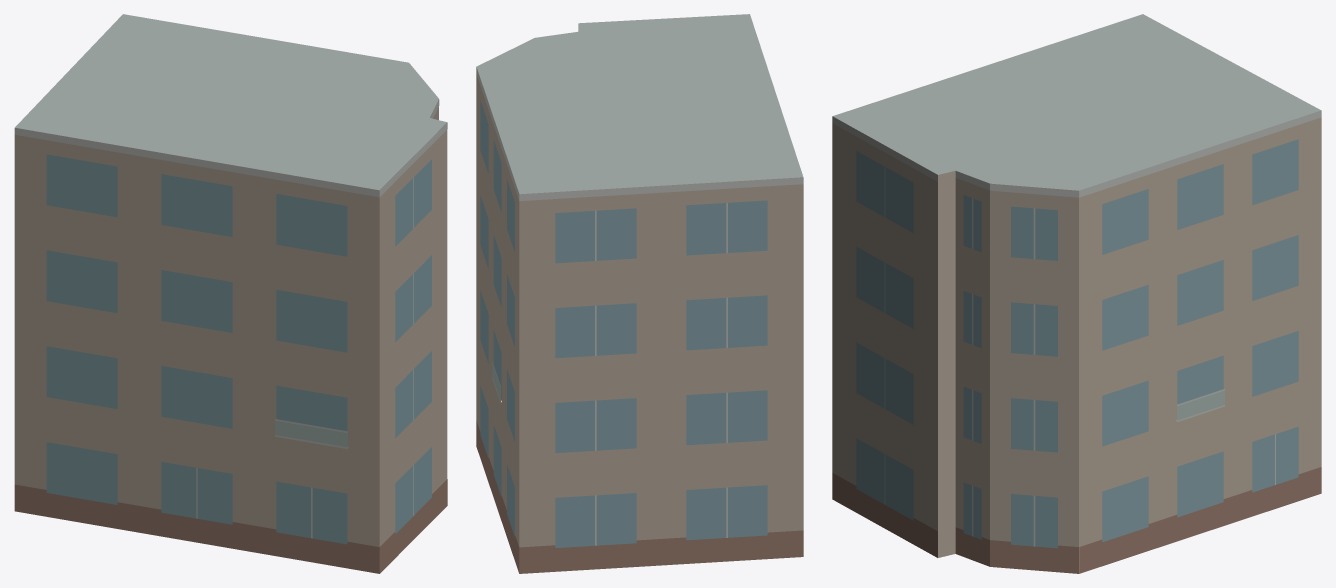
File: survey-upis-32739243.glb
The picture shows the model from 3 angles, left to right: view 1: azimuth 30°, elevation 25°; view 2: azimuth 150°, elevation 25°; view 3: azimuth 270°, elevation 25°; orthographic projection.
Visible parts, largest first — view 1: survey-upis-32739243.tmp; view 2: survey-upis-32739243.tmp; view 3: survey-upis-32739243.tmp.
Boxes of the visible parts, bbox=[...] form: survey-upis-32739243.tmp: bbox=[14, 14, 447, 573]; survey-upis-32739243.tmp: bbox=[476, 14, 803, 573]; survey-upis-32739243.tmp: bbox=[832, 14, 1321, 573].
Size of the model in its own units: 13.25 by 13.39 by 15.49.
